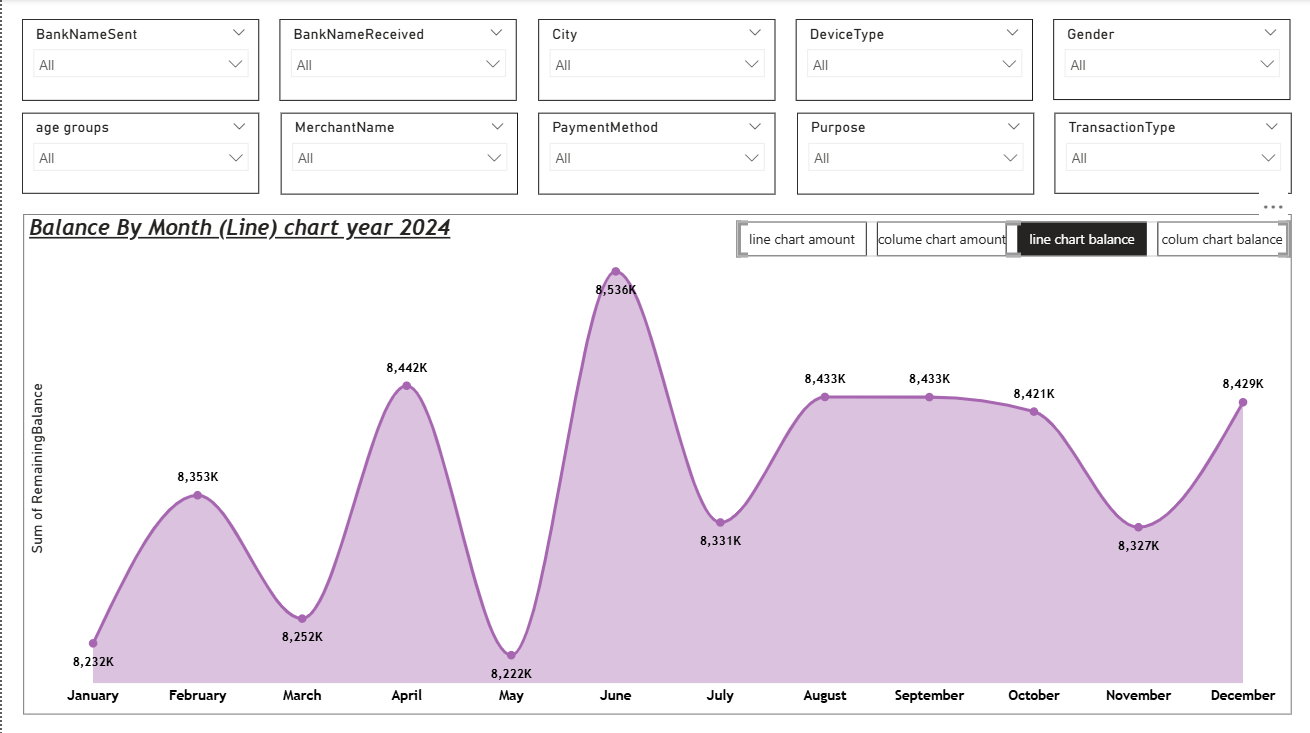

Layout of this report page (visuals, bound fields, positions):
{"tool":"powerbi","page":{"name":"Page 1","canvas":[1280,720],"ordinal":0},"visuals":[{"type":"slicer","fields":{"Values":["UPI transaction.BankNameSent"]},"box":[20,20,232,80],"z":0},{"type":"slicer","fields":{"Values":["UPI transaction.BankNameReceived"]},"box":[272,20,232,80],"z":1000},{"type":"slicer","fields":{"Values":["UPI transaction.City"]},"box":[524,20,232,80],"z":2000},{"type":"slicer","fields":{"Values":["UPI transaction.DeviceType"]},"box":[776.5,20,232,80],"z":3000},{"type":"slicer","fields":{"Values":["UPI transaction.Gender"]},"box":[1028,20,232.3,79.5],"z":4000},{"type":"slicer","fields":{"Values":["UPI transaction.age groups"]},"box":[19.6,111.3,232.3,79.5],"z":5000},{"type":"slicer","fields":{"Values":["UPI transaction.MerchantName"]},"box":[273.2,111.2,232,80],"z":6000},{"type":"slicer","fields":{"Values":["UPI transaction.PaymentMethod"]},"box":[525.2,111.2,232,80],"z":7000},{"type":"slicer","fields":{"Values":["UPI transaction.Purpose"]},"box":[777.7,111.2,232,80],"z":8000},{"type":"slicer","fields":{"Values":["UPI transaction.TransactionType"]},"box":[1029.2,111.2,232.3,79.5],"z":9000},{"type":"lineChart","title":"Balance By Month (Line) chart year 2024","fields":{"Category":["UPI transaction.TransactionDate.Variation.Date Hierarchy.Month"],"Y":["Sum(UPI transaction.RemainingBalance)"]},"box":[21.1,210.8,1240.6,489.3],"z":14000},{"type":"bookmarkNavigator","box":[719,217.7,540.5,34.2],"z":14500}]}

Visuals, with their boxes in screenshot pixels (x1, y1, x2, y2), scaled from the page's 1280x720 canvas onto the 1310x733 screenshot:
slicer - UPI transaction.BankNameSent: select_region(20, 20, 258, 102)
slicer - UPI transaction.BankNameReceived: select_region(278, 20, 516, 102)
slicer - UPI transaction.City: select_region(536, 20, 774, 102)
slicer - UPI transaction.DeviceType: select_region(795, 20, 1032, 102)
slicer - UPI transaction.Gender: select_region(1052, 20, 1290, 101)
slicer - UPI transaction.age groups: select_region(20, 113, 258, 194)
slicer - UPI transaction.MerchantName: select_region(280, 113, 517, 195)
slicer - UPI transaction.PaymentMethod: select_region(538, 113, 775, 195)
slicer - UPI transaction.Purpose: select_region(796, 113, 1033, 195)
slicer - UPI transaction.TransactionType: select_region(1053, 113, 1291, 194)
"Balance By Month (Line) chart year 2024" lineChart: select_region(22, 215, 1291, 713)
bookmarkNavigator: select_region(736, 222, 1289, 256)
